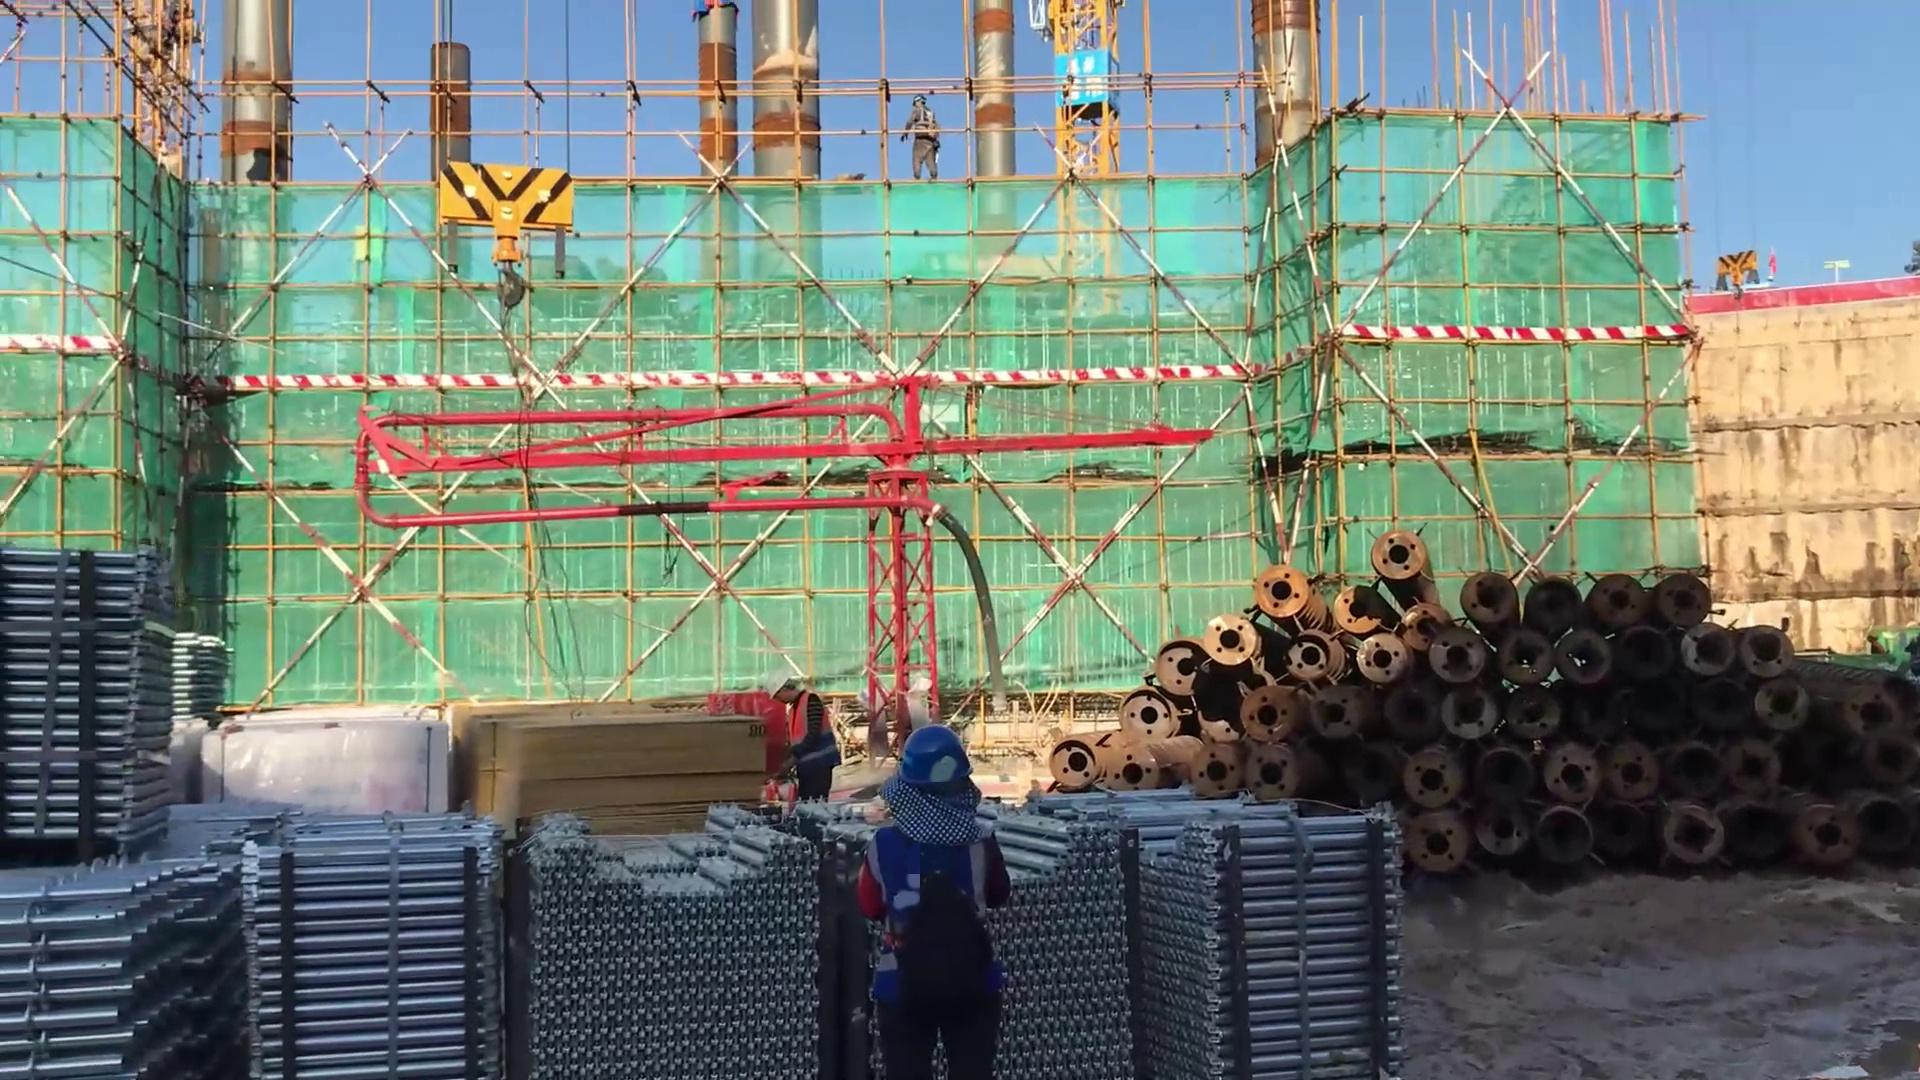board: (441, 701, 766, 840)
fence: (1683, 274, 1920, 324)
helmet: (897, 726, 987, 791), (758, 668, 789, 700), (911, 94, 929, 102)
hook: (431, 137, 579, 360), (1709, 241, 1773, 330)
person: (852, 726, 1021, 1079), (767, 669, 847, 809), (891, 90, 954, 178)
scaffold: (1006, 777, 1402, 1080), (500, 796, 851, 1078), (240, 807, 516, 1078), (2, 532, 197, 863), (1, 832, 254, 1071)
slogan: (1054, 57, 1113, 109)
vest: (868, 825, 1008, 993), (783, 688, 843, 773), (913, 106, 941, 147)
